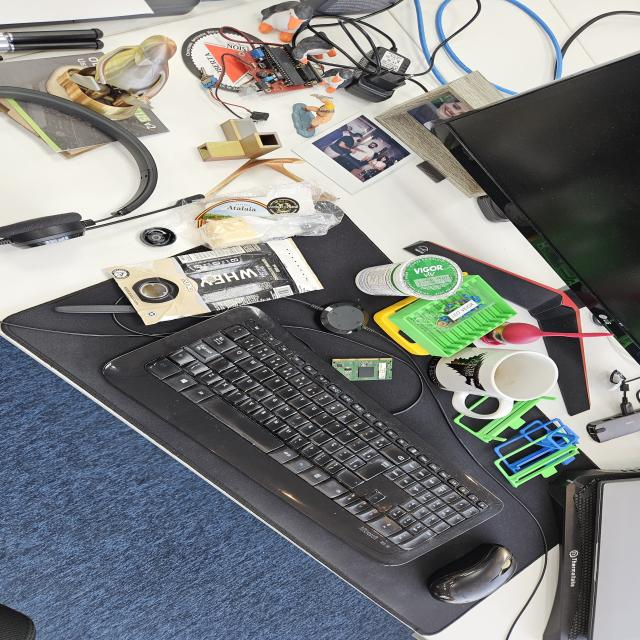som: (325, 357, 403, 383)
